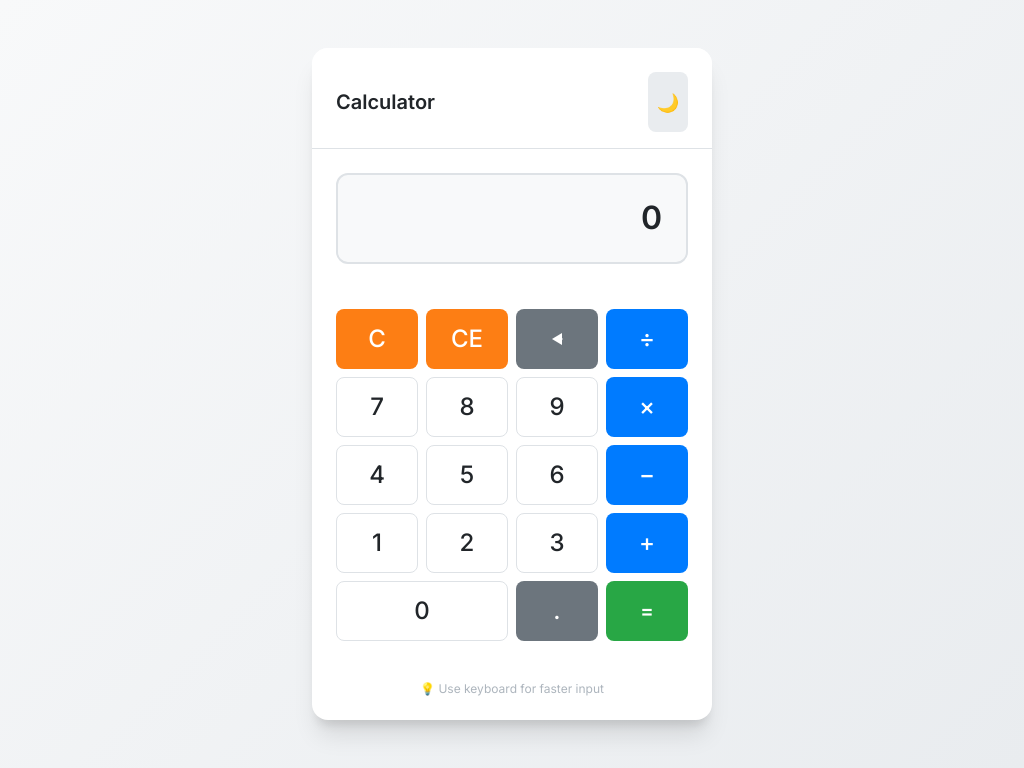
Test: Calculator Integration Tests › handles division by zero error
This screenshot has width=1024, height=768.
Click the button named "Five".
click(467, 475)  # box [426, 445, 508, 505]
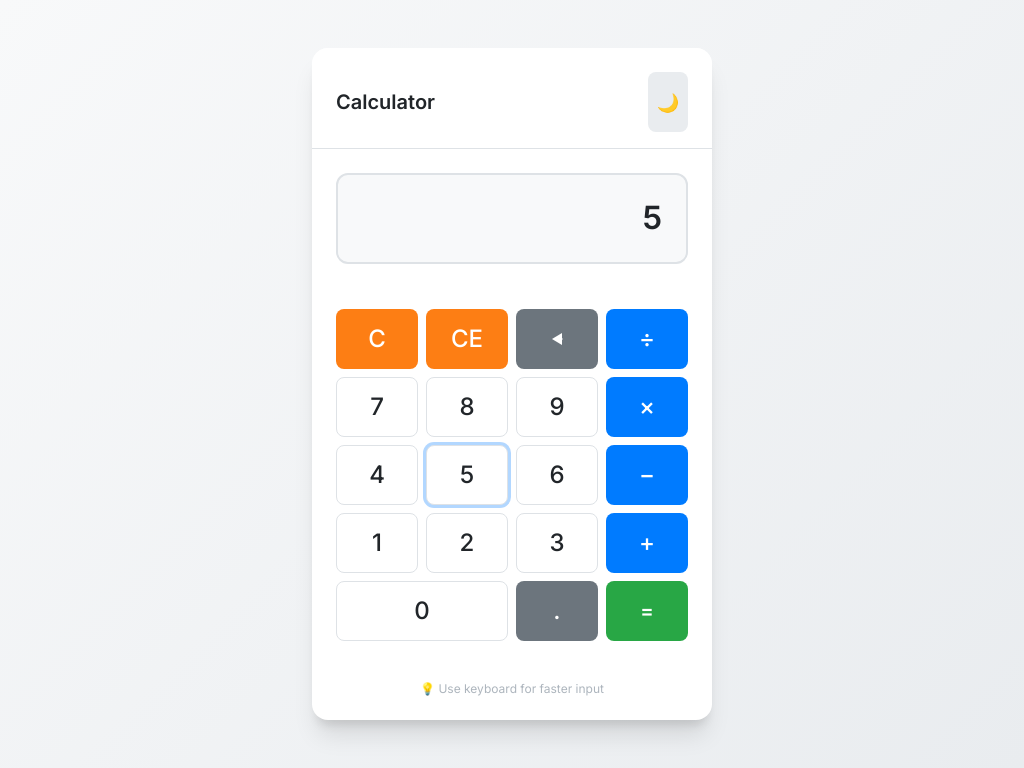
Click the button named "Divide".
click(647, 339)  # box [606, 309, 688, 369]
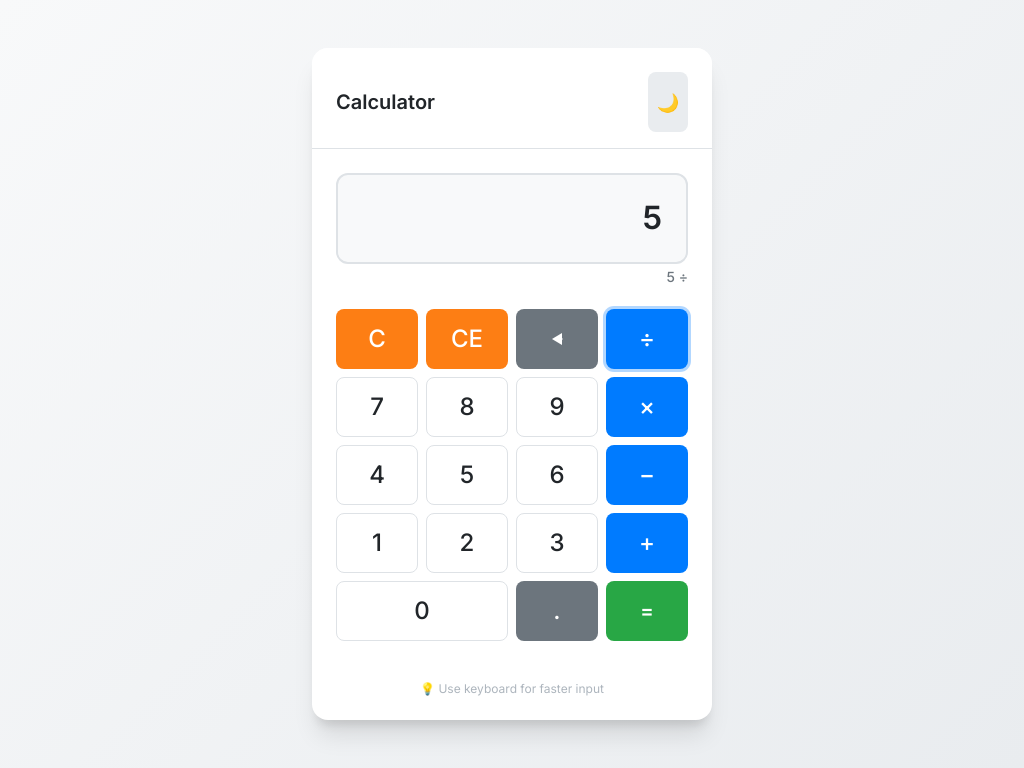
Click the button named "Zero".
click(422, 611)  # box [336, 581, 508, 641]
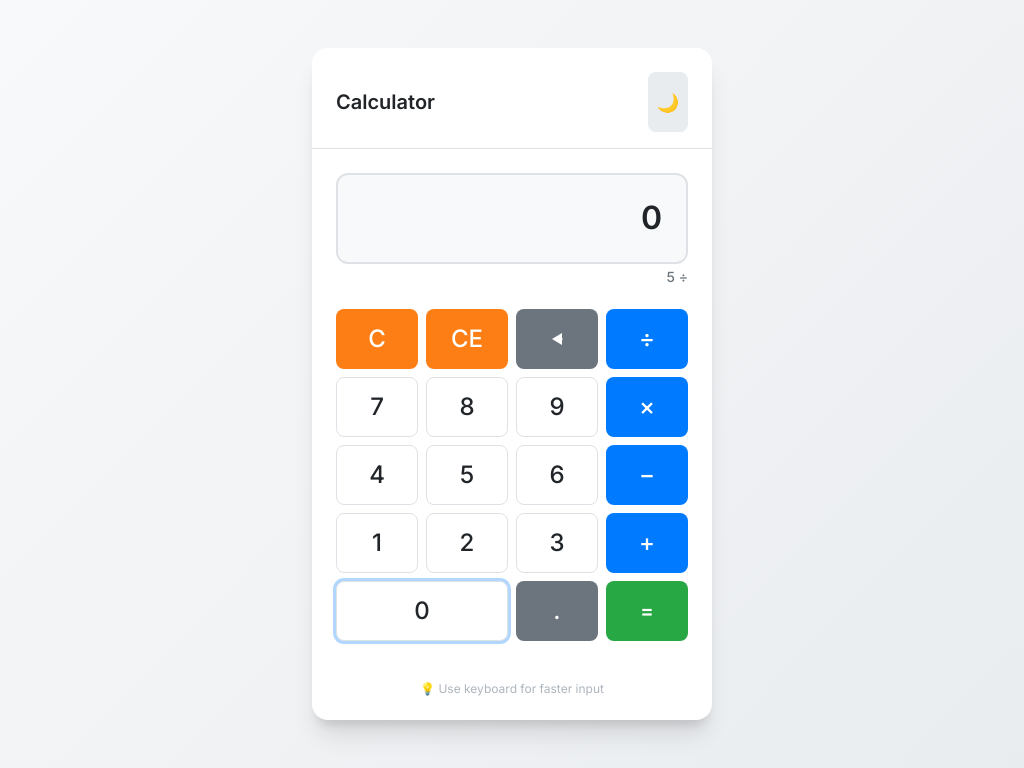
Click the button named "Equals".
click(647, 611)  # box [606, 581, 688, 641]
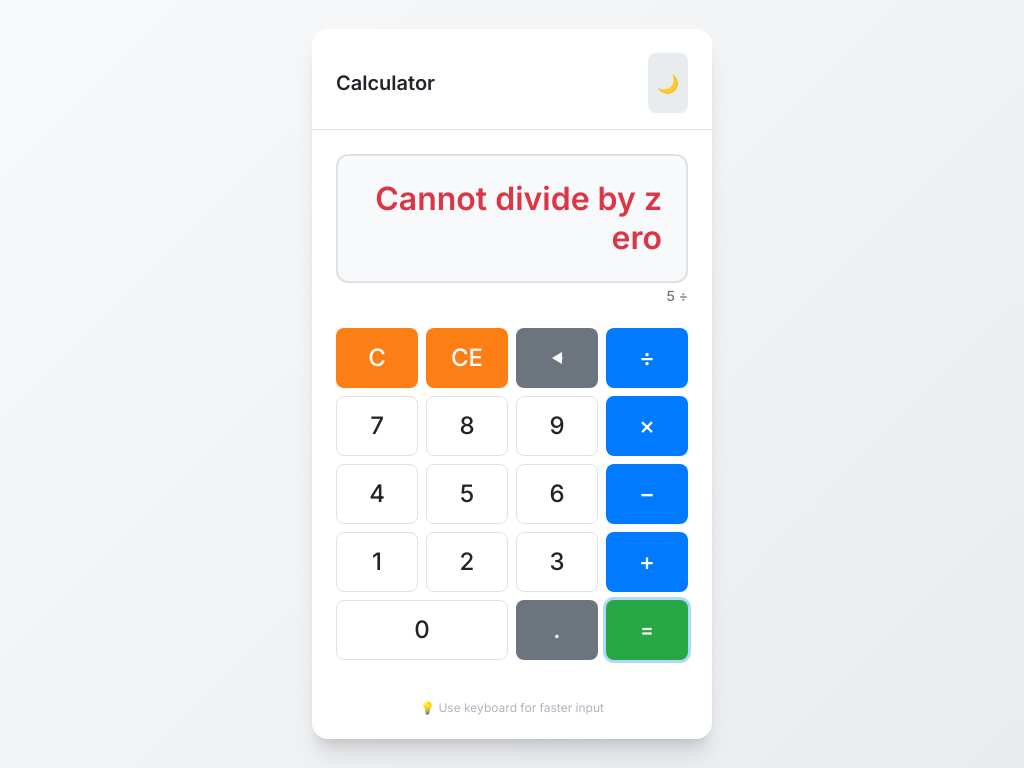
Check: the field reads "Cannot divide by zero", box [375, 179, 662, 256]
